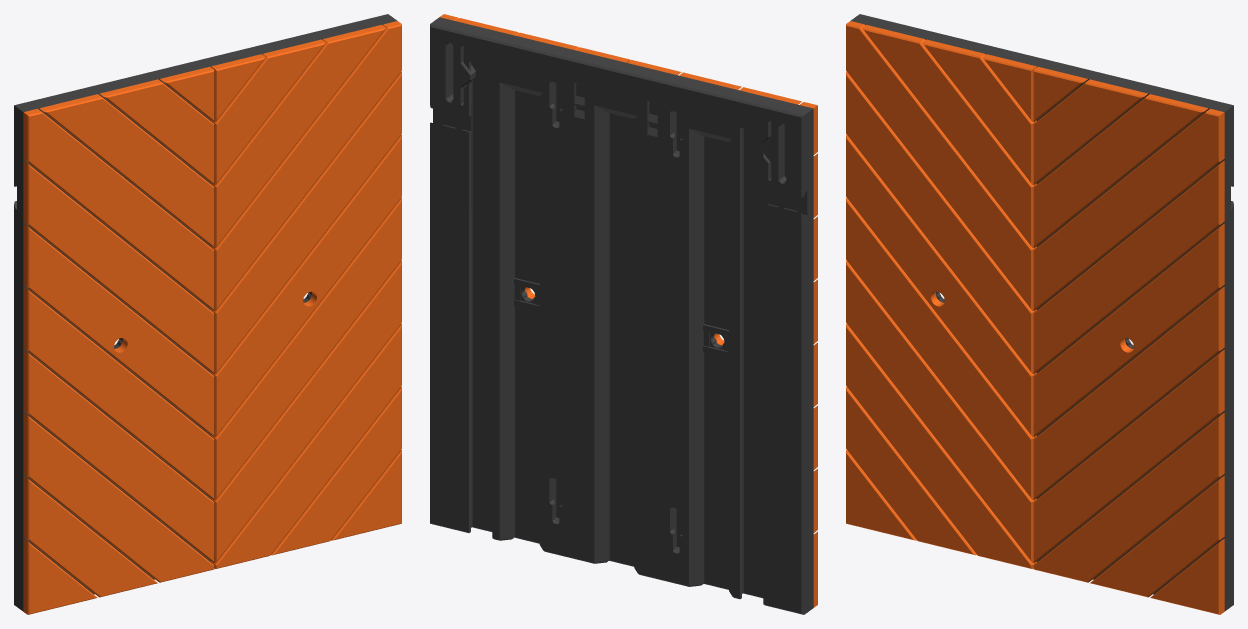
The model's file is Faceplate_Chevron_1W-2H.lib.glb.
The picture shows the model from 3 angles, left to right: view 1: azimuth 30°, elevation 25°; view 2: azimuth 150°, elevation 25°; view 3: azimuth 330°, elevation 25°; orthographic projection.
Parts seen in each view (by area): view 1: Faceplate_Chevron_1W-2H; view 2: Faceplate_Chevron_1W-2H; view 3: Faceplate_Chevron_1W-2H.
Part boxes in pixels (bbox=[...]): Faceplate_Chevron_1W-2H: bbox=[14, 14, 401, 614]; Faceplate_Chevron_1W-2H: bbox=[430, 14, 817, 614]; Faceplate_Chevron_1W-2H: bbox=[846, 14, 1233, 614].
Bounding box in the file's own units: 87 × 111 × 6.21.
